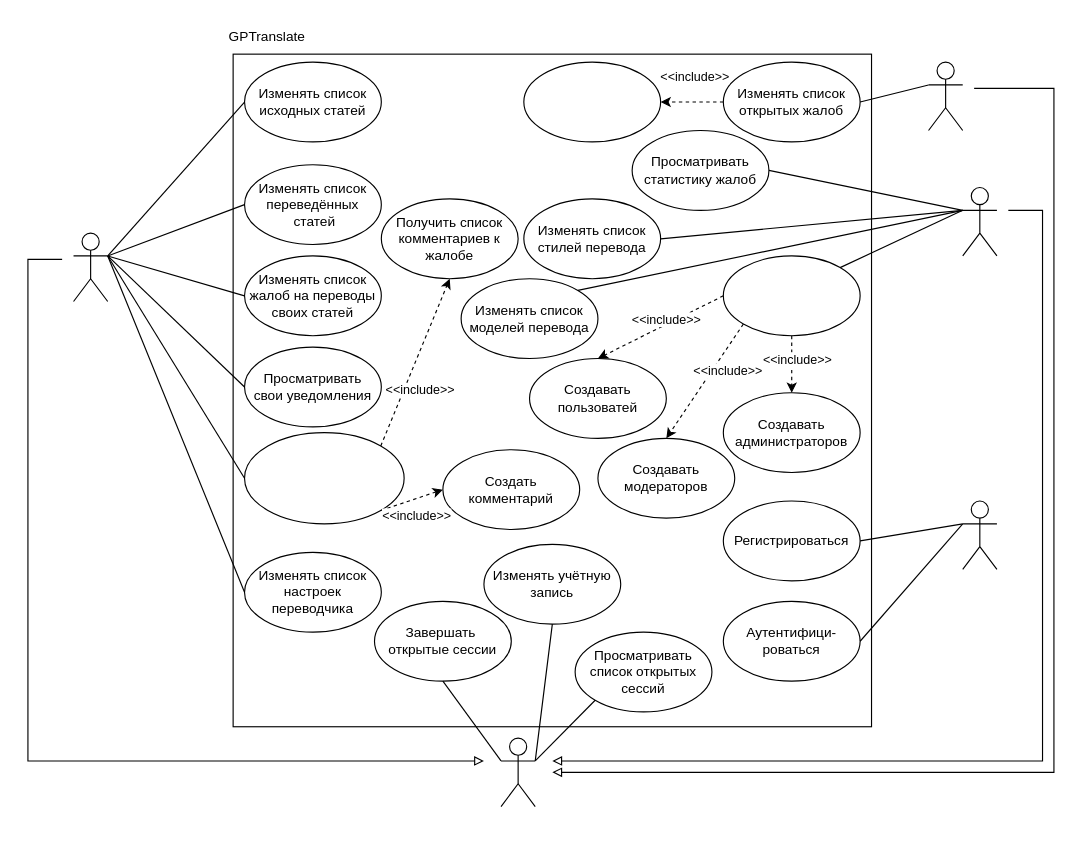
The diagram is 1083 pixels wide and 866 high, and some of its shapes have lost their labels. The box of each missing label's shape, as (x1, y1, x2, y2) in pixels:
Администратор: (962, 186, 997, 256)
Все аутентифицированные пользователи: (500, 737, 535, 807)
Гость: (962, 500, 997, 569)
Изменять список комментариев к жалобам на переводы своих статей: (243, 431, 404, 524)
Изменять список пользователей: (722, 255, 860, 336)
Модератор: (927, 61, 963, 131)
П ользователь: (72, 232, 108, 302)
Создавать комментарии для далоб: (523, 61, 661, 142)
